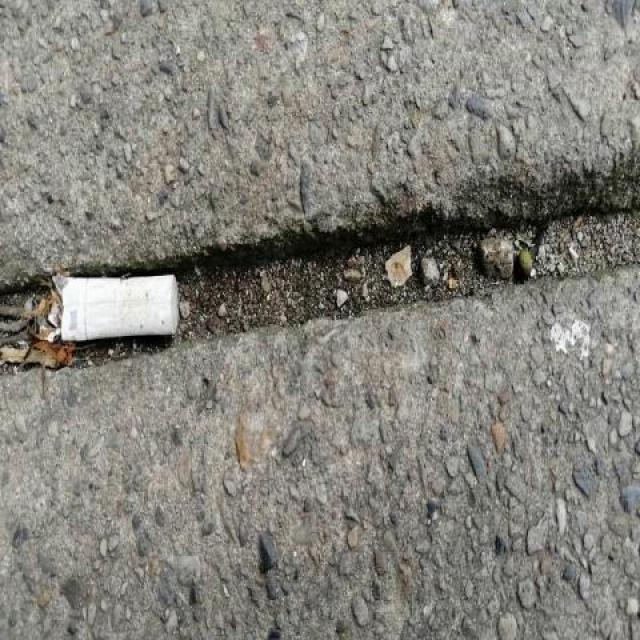non-organic waste: (46, 268, 182, 344)
